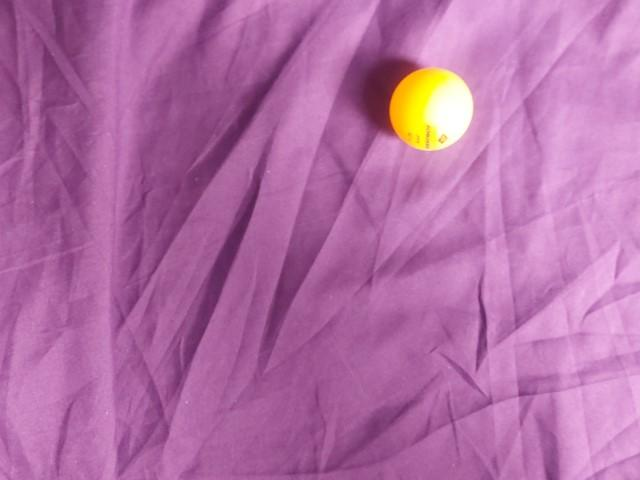oball: (157, 320, 261, 419)
